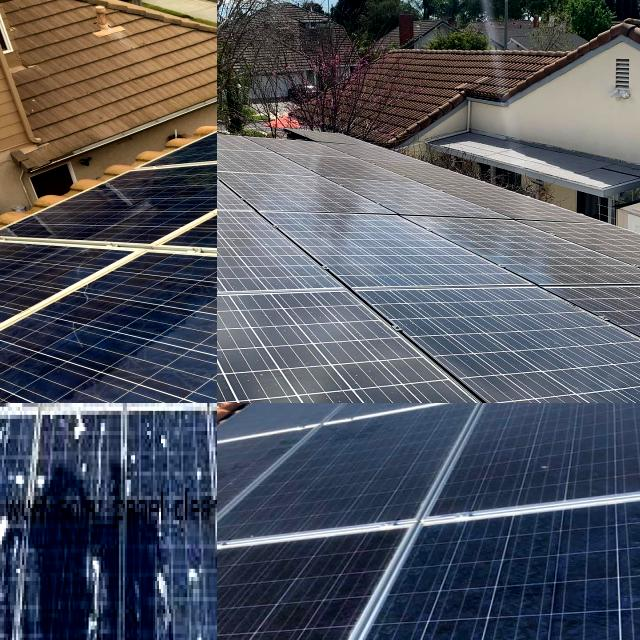bird: (66, 403, 105, 485), (0, 475, 24, 589), (65, 403, 116, 451), (148, 554, 174, 638), (0, 403, 44, 442), (8, 403, 50, 443), (141, 403, 189, 435), (0, 447, 12, 551), (183, 558, 208, 606), (0, 579, 18, 640), (0, 403, 22, 451), (0, 403, 23, 448), (193, 403, 217, 439)
crack: (217, 413, 590, 557), (435, 403, 640, 541), (414, 576, 623, 640), (65, 320, 217, 403), (341, 403, 528, 451), (157, 268, 217, 350), (0, 370, 128, 403)
dust: (504, 306, 640, 403), (217, 362, 452, 403)
